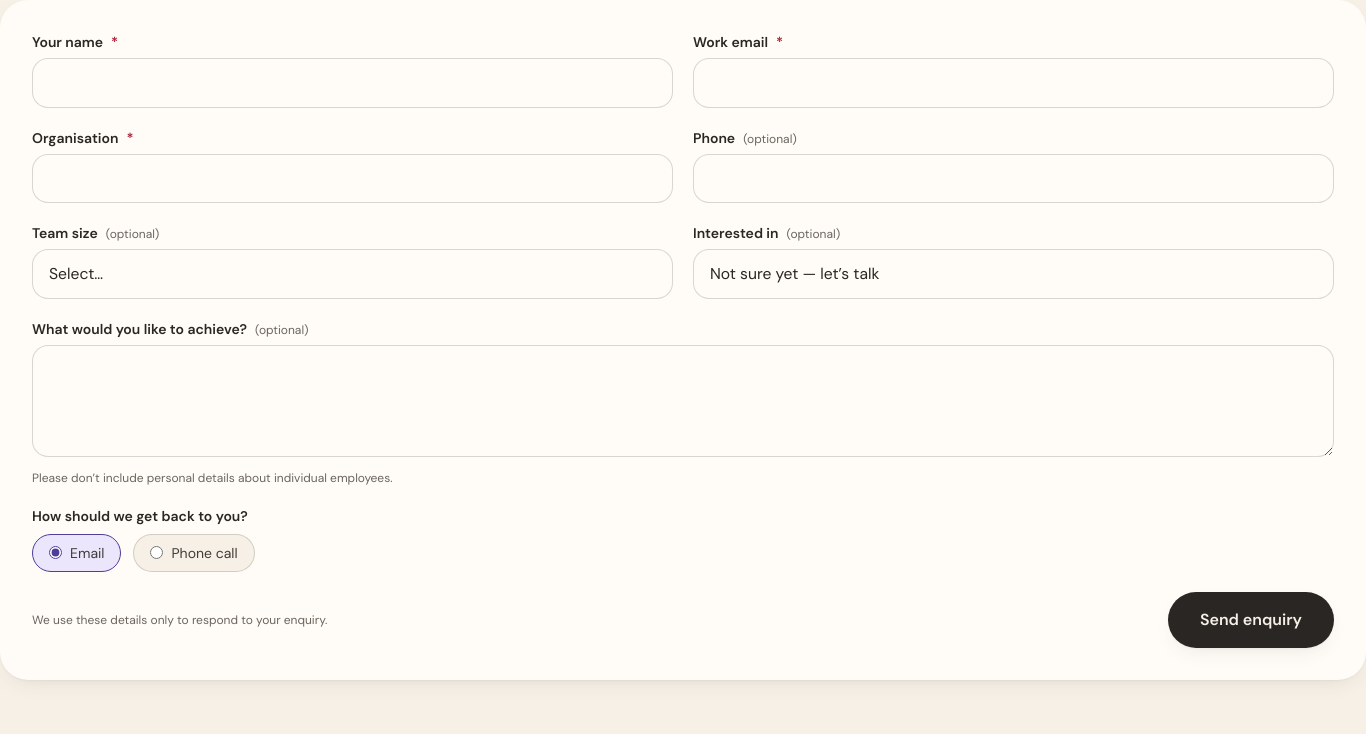
it: EnquiryForm › offers the email app honestly when the enquiries table is missing
Type "Achieng Otieno" into the field labelled "Your name *" at {"x": 352, "y": 83}, box x1=32 y1=58 x2=673 y2=108
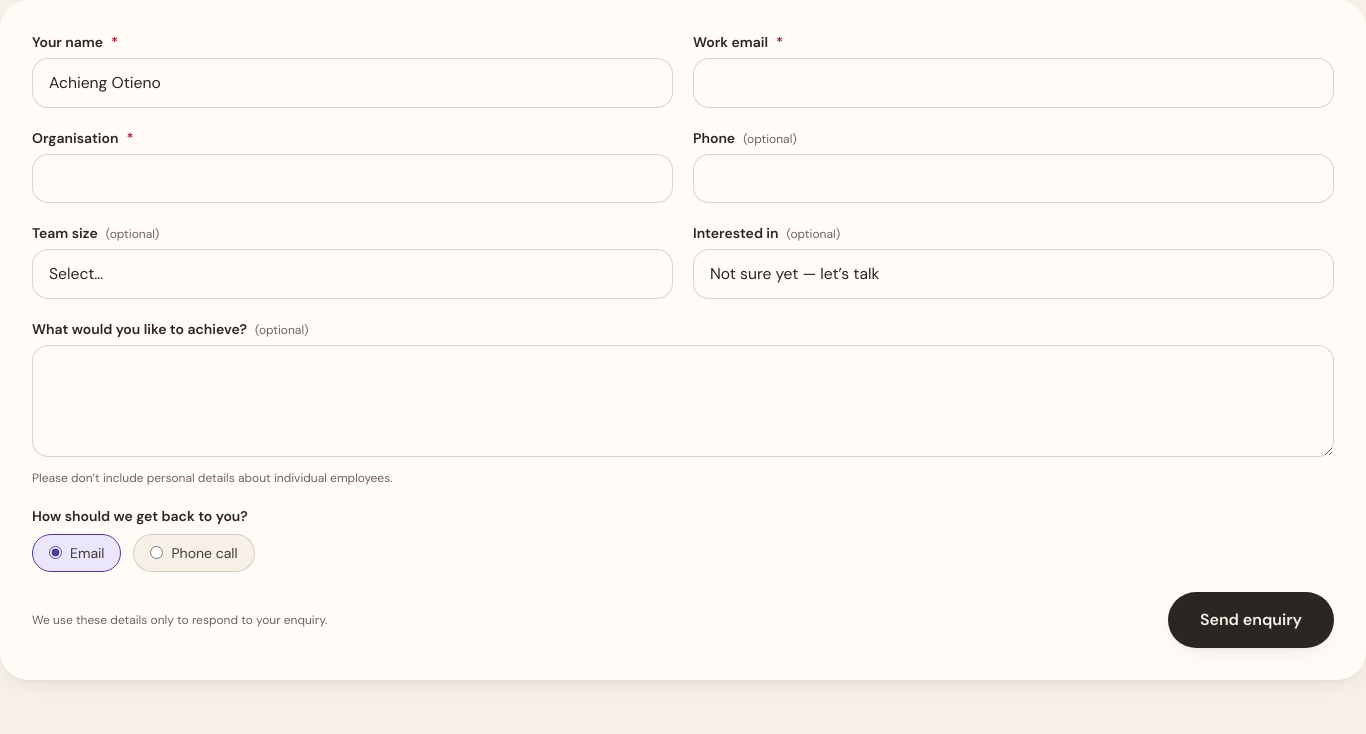
Type "achieng@example.co.ke" into the field labelled "Work email *" at {"x": 1014, "y": 83}, box x1=693 y1=58 x2=1334 y2=108
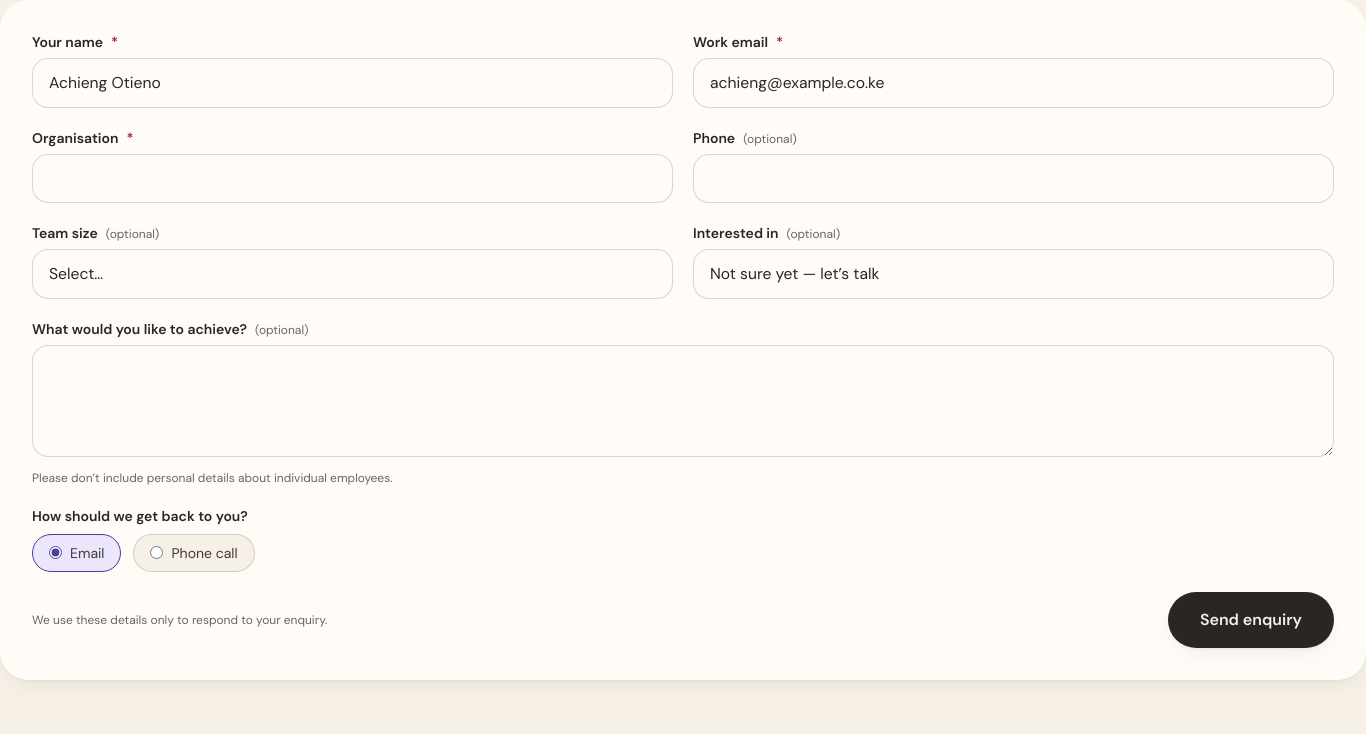
Type "Example Ltd" into the field labelled "Organisation *" at {"x": 352, "y": 178}, box x1=32 y1=154 x2=673 y2=203
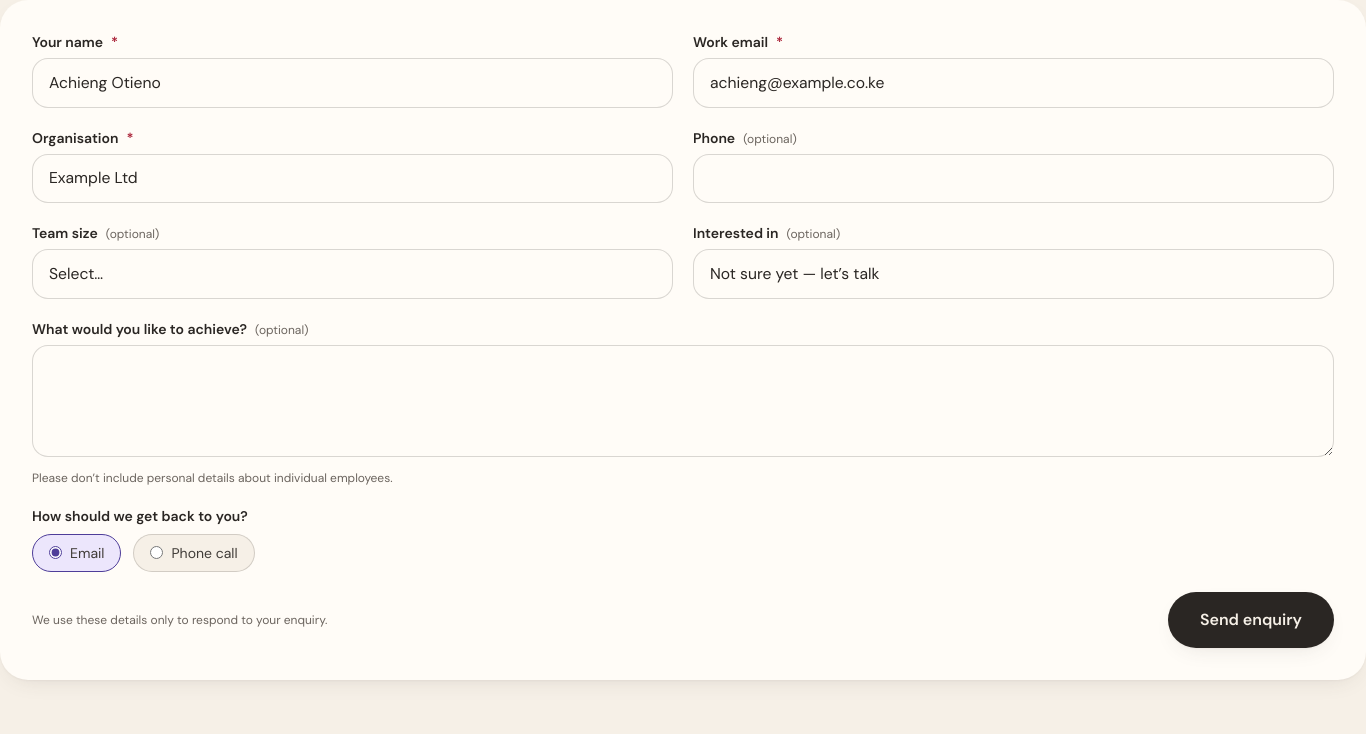
Click the button "Send enquiry" at {"x": 1251, "y": 620}, box x1=1168 y1=592 x2=1334 y2=648
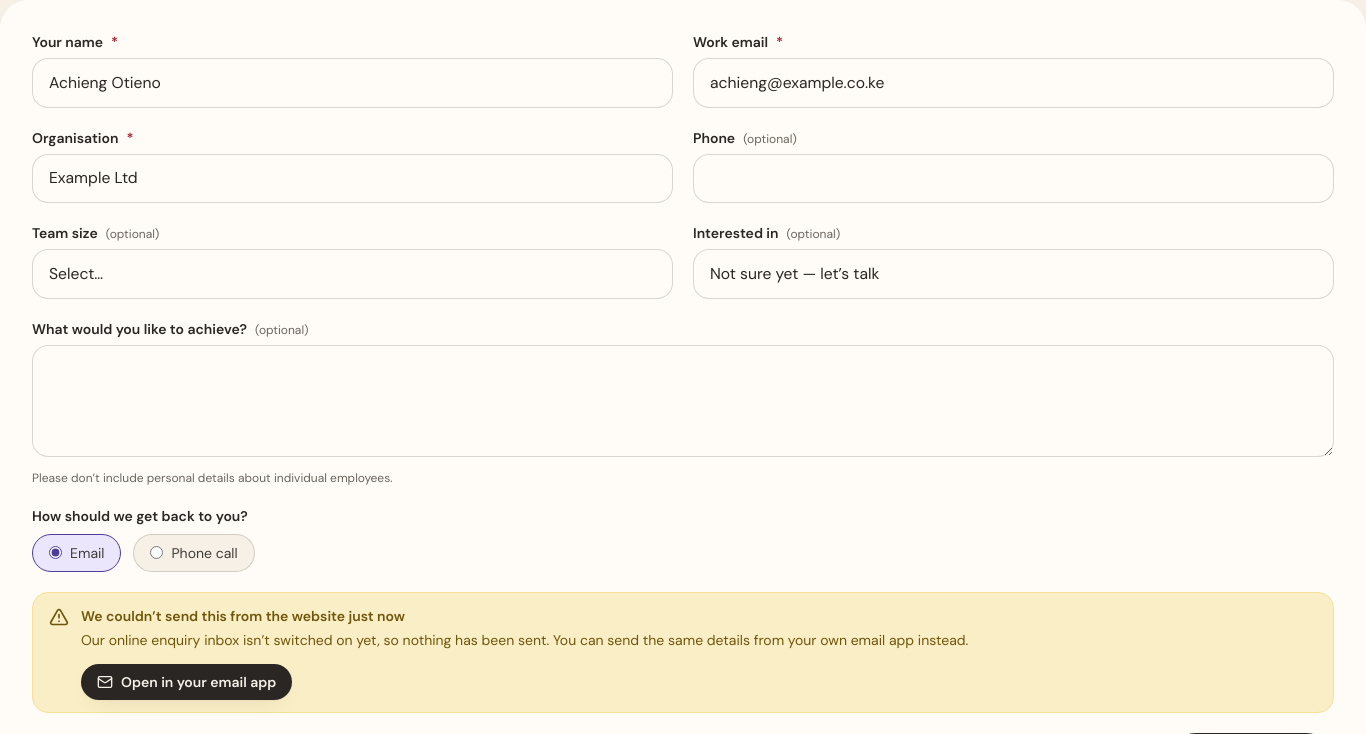
Expected: the link "Open in your email app" is shown, x1=81 y1=664 x2=292 y2=700
Expected: the text "nothing has been sent" is shown, x1=81 y1=631 x2=968 y2=649
